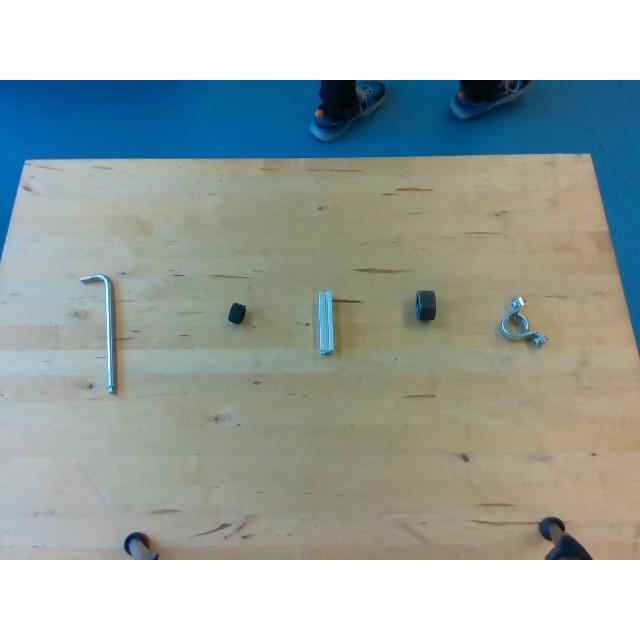AllenKey: (80, 273, 118, 395)
F20_20_G: (317, 288, 335, 356)
Housing: (498, 295, 546, 345)
M20: (228, 301, 246, 323)
M30: (415, 290, 437, 322)
